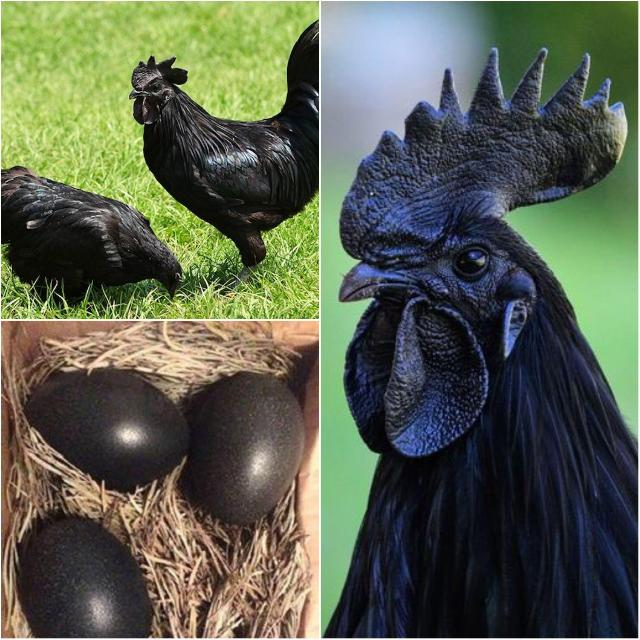Chicken: (323, 48, 640, 640), (129, 18, 320, 291), (0, 165, 183, 306)
